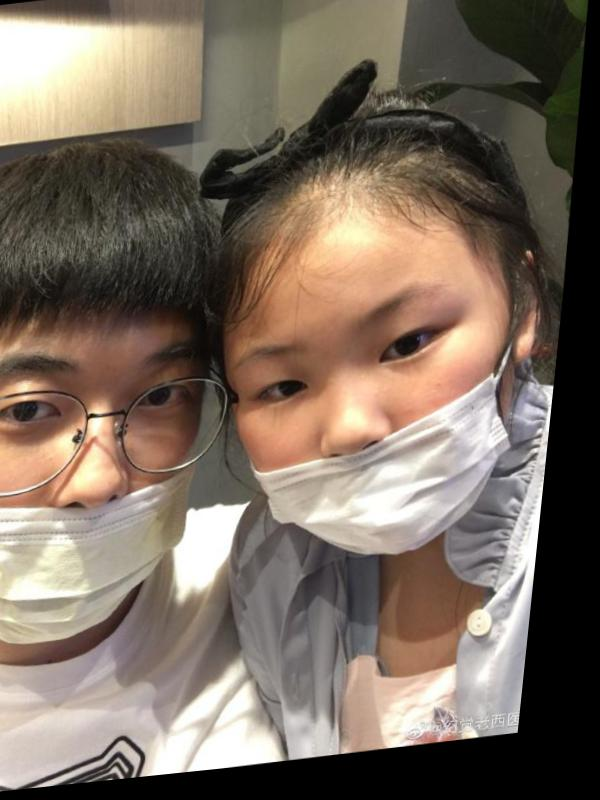WRONG: (213, 245, 531, 585), (1, 299, 232, 660)
